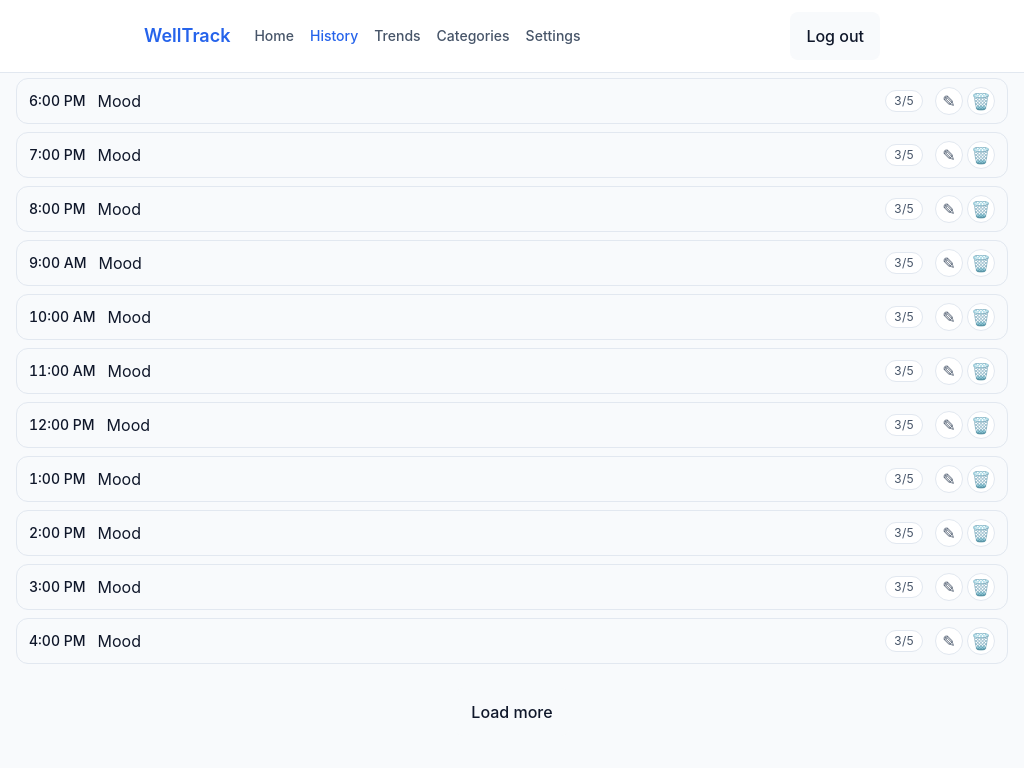
Test: HistoryPage › shows Load less once more than a page is loaded, and it collapses back without a new fetch
The width and height of the screenshot is (1024, 768).
(page scrolled)
Expected: the button "load less" is not shown
What coordinates should you click on to do the following:
click the button "Load more"
I would click on:
 (512, 712)
Its box is [455,688,569,736].
(page scrolled)
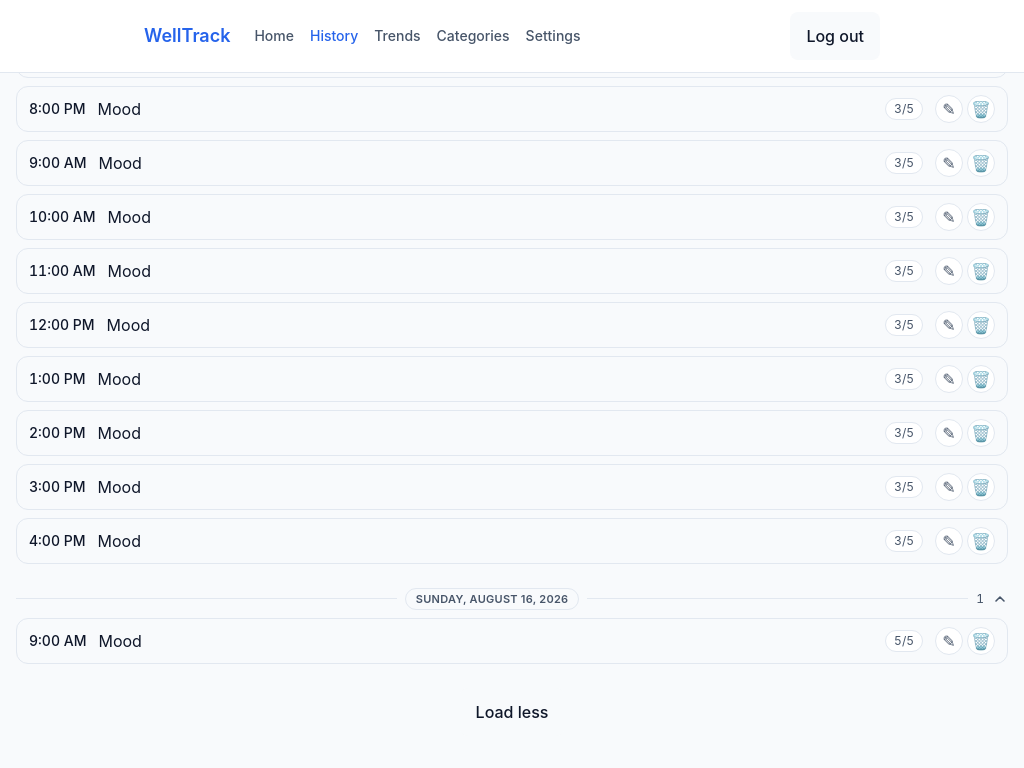
Result: the text "5/5" is shown at [885,630,923,652]
Result: the button "Load more" is gone
Result: the button "Load less" is shown
What coordinates should you click on to do the following:
click the button "Load less"
I would click on:
 (512, 712)
Its box is [460,688,564,736].
(page scrolled)
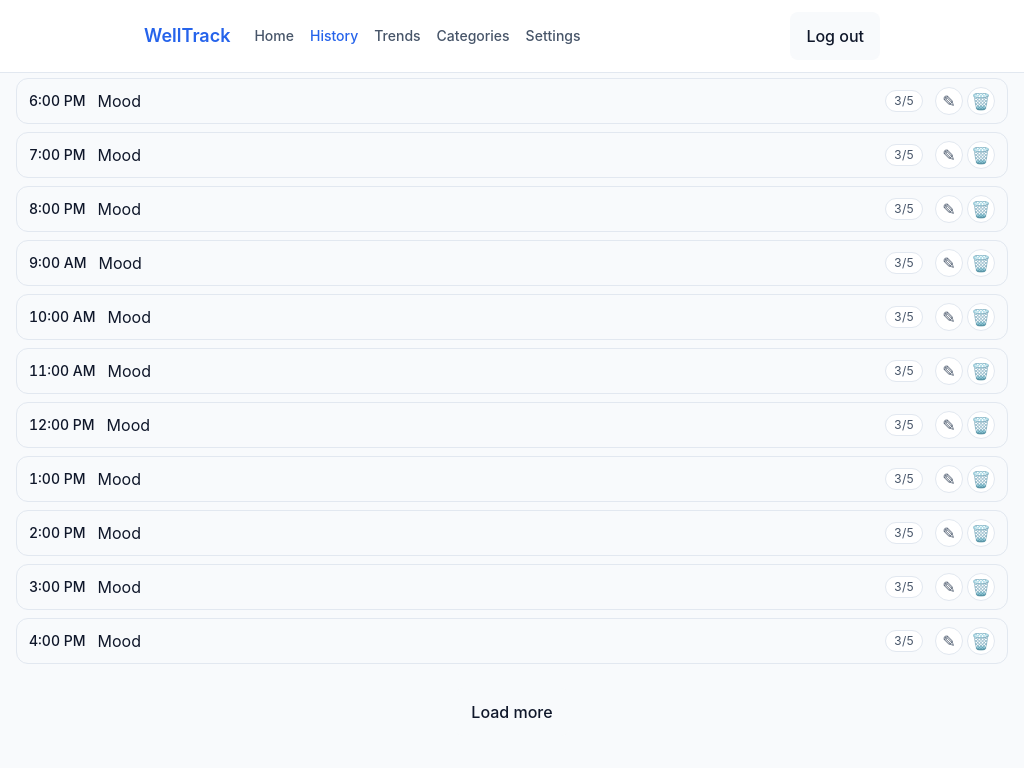
Result: the text "5/5" is gone
Result: the button "Load more" is shown at [455,688,569,736]
Result: the button "Load less" is gone
